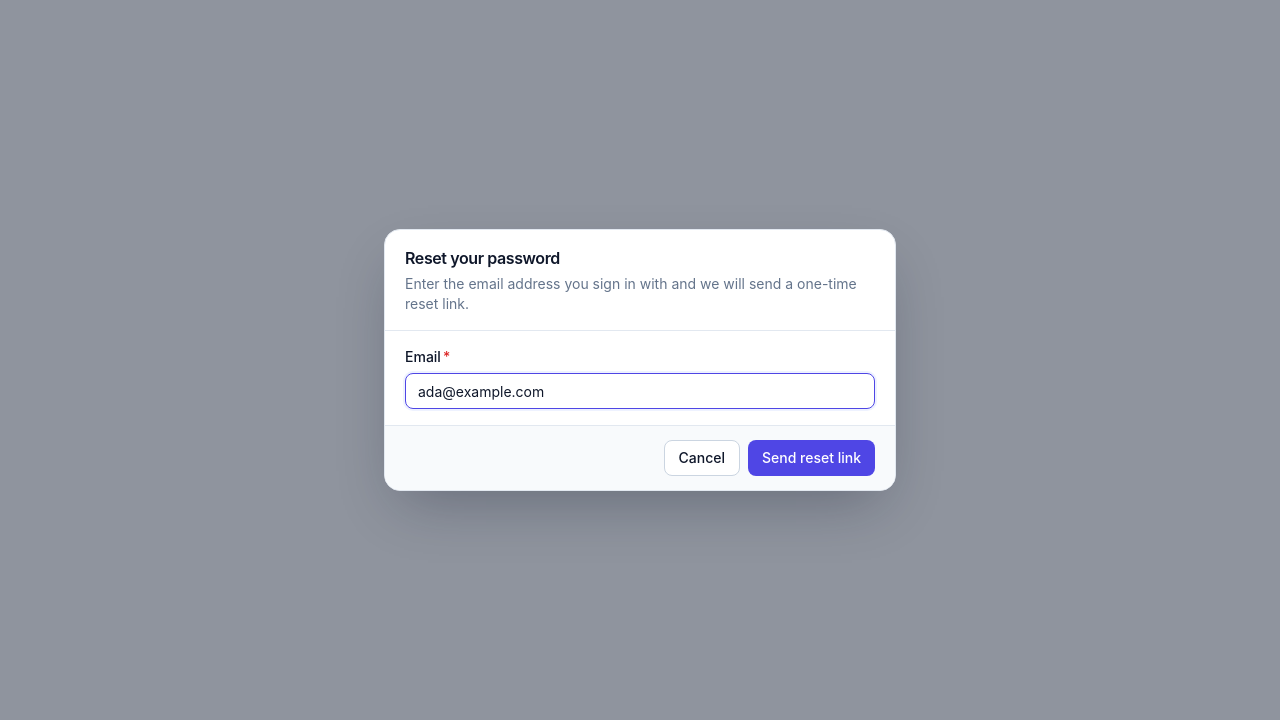
Test: ForgotPasswordDialog › keeps the form available when the request fails
Click the button "Send reset link".
click(812, 458)  # box [748,440,875,476]
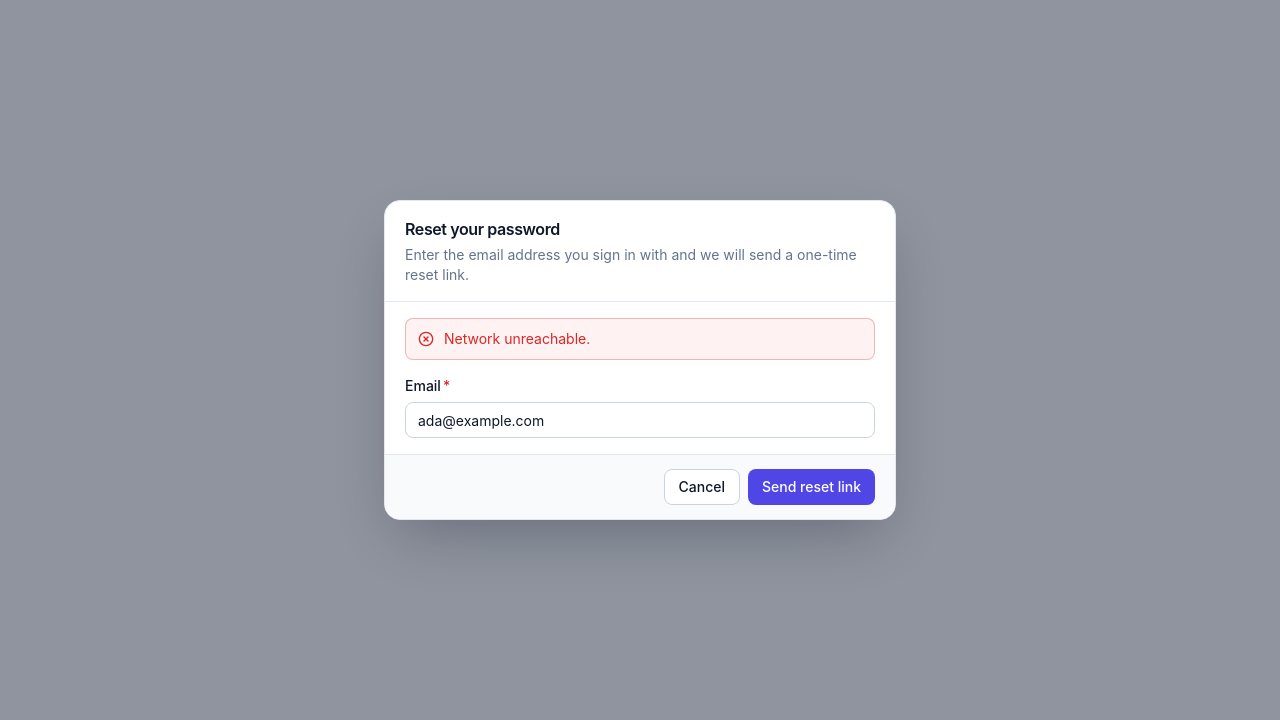
Expected: the field labelled "Email*" is shown, [405,402,875,438]
Now the text "Network unreachable." is shown, box [444,329,590,349]
